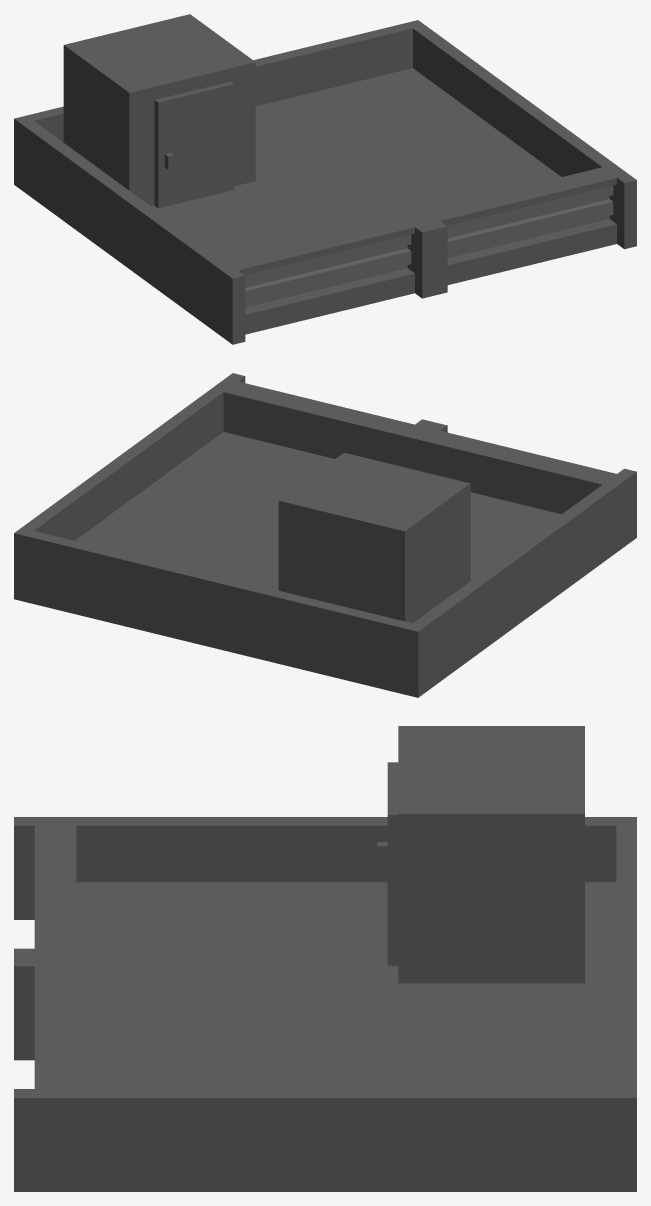
The model's file is bld_story04d.obj.
3 views of the same model, one above another, from view 1: azimuth 30°, elevation 25°; view 2: azimuth 150°, elevation 25°; view 3: azimuth 270°, elevation 25° (orthographic). The views are drawn at different scales.
Bounding box in the file's own units: 64 × 22 × 60.
